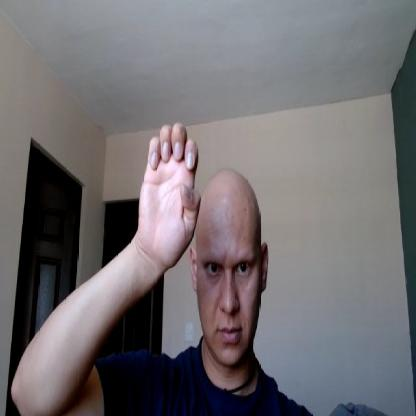E: (140, 123, 203, 268)
